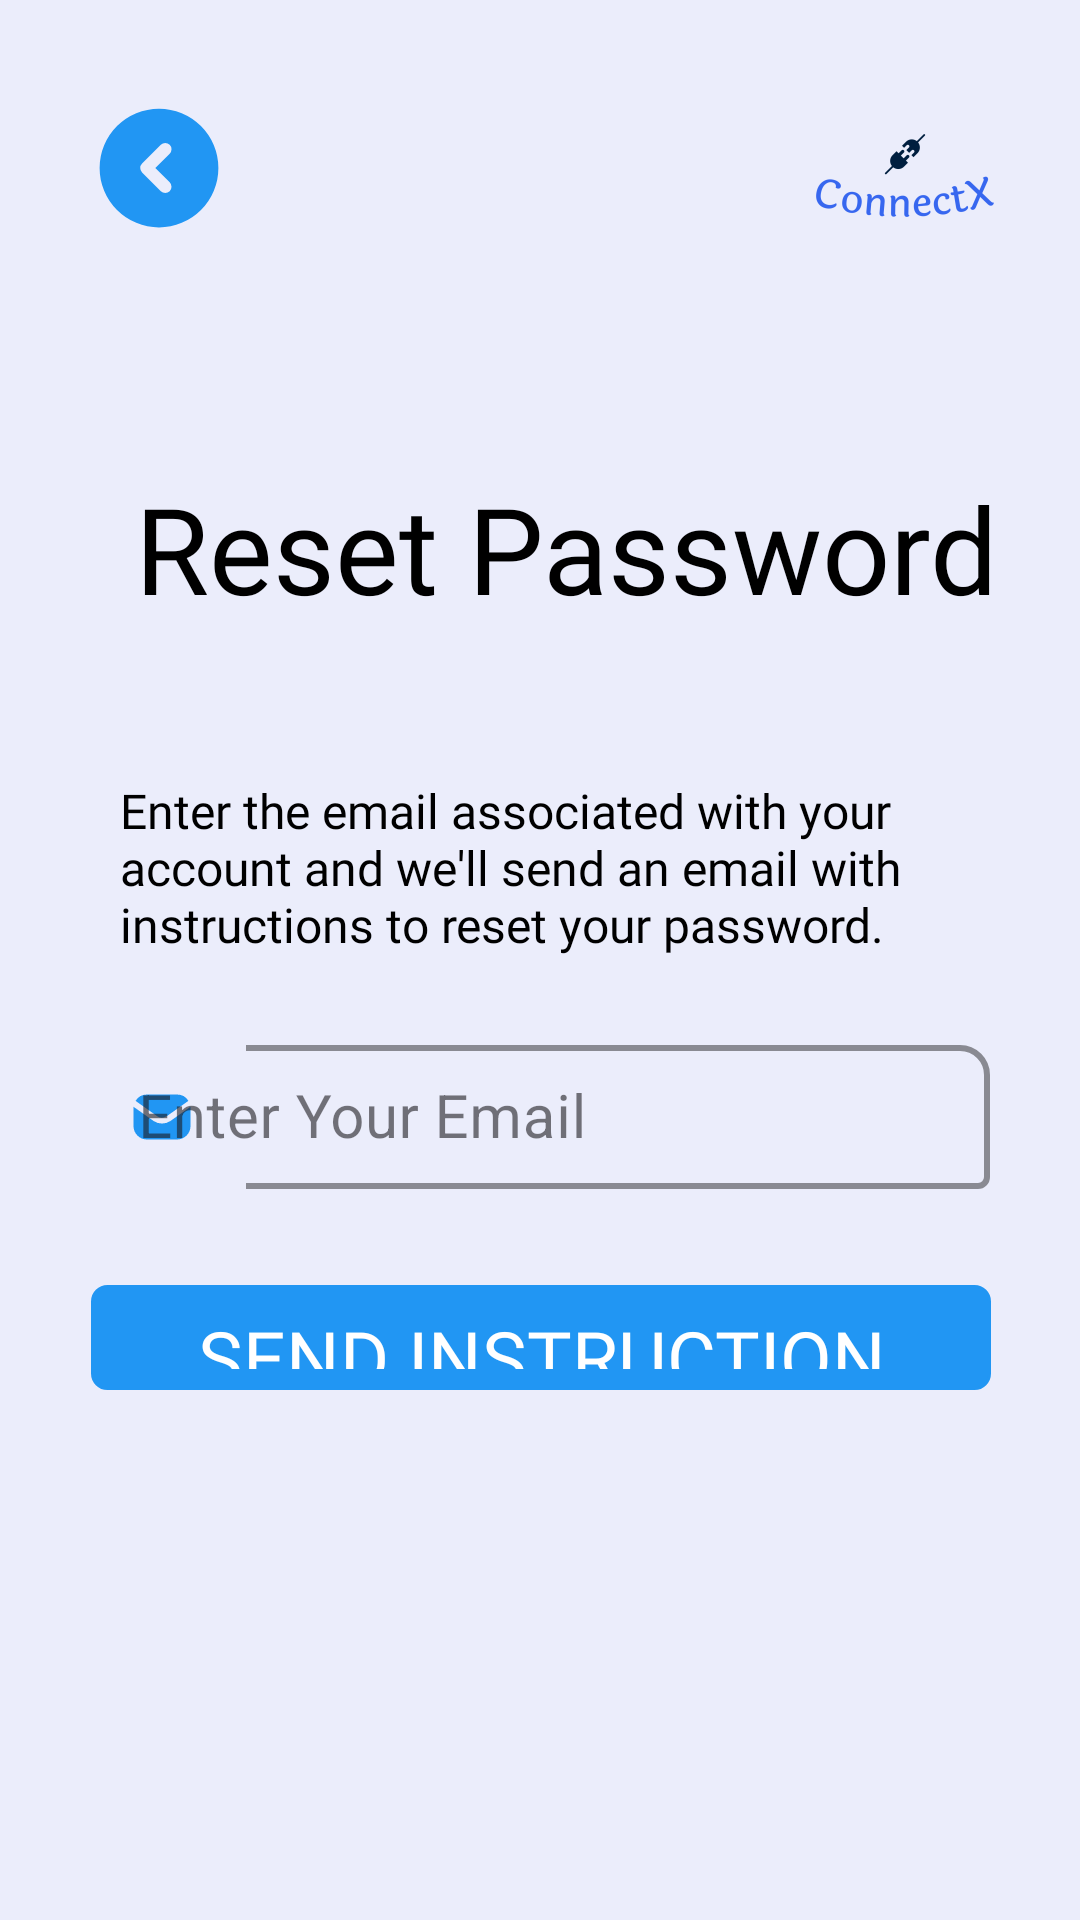

Where to tap for icons on this 1080w x 1920h app screen, as (x,y):
backbutton: (159,168)
